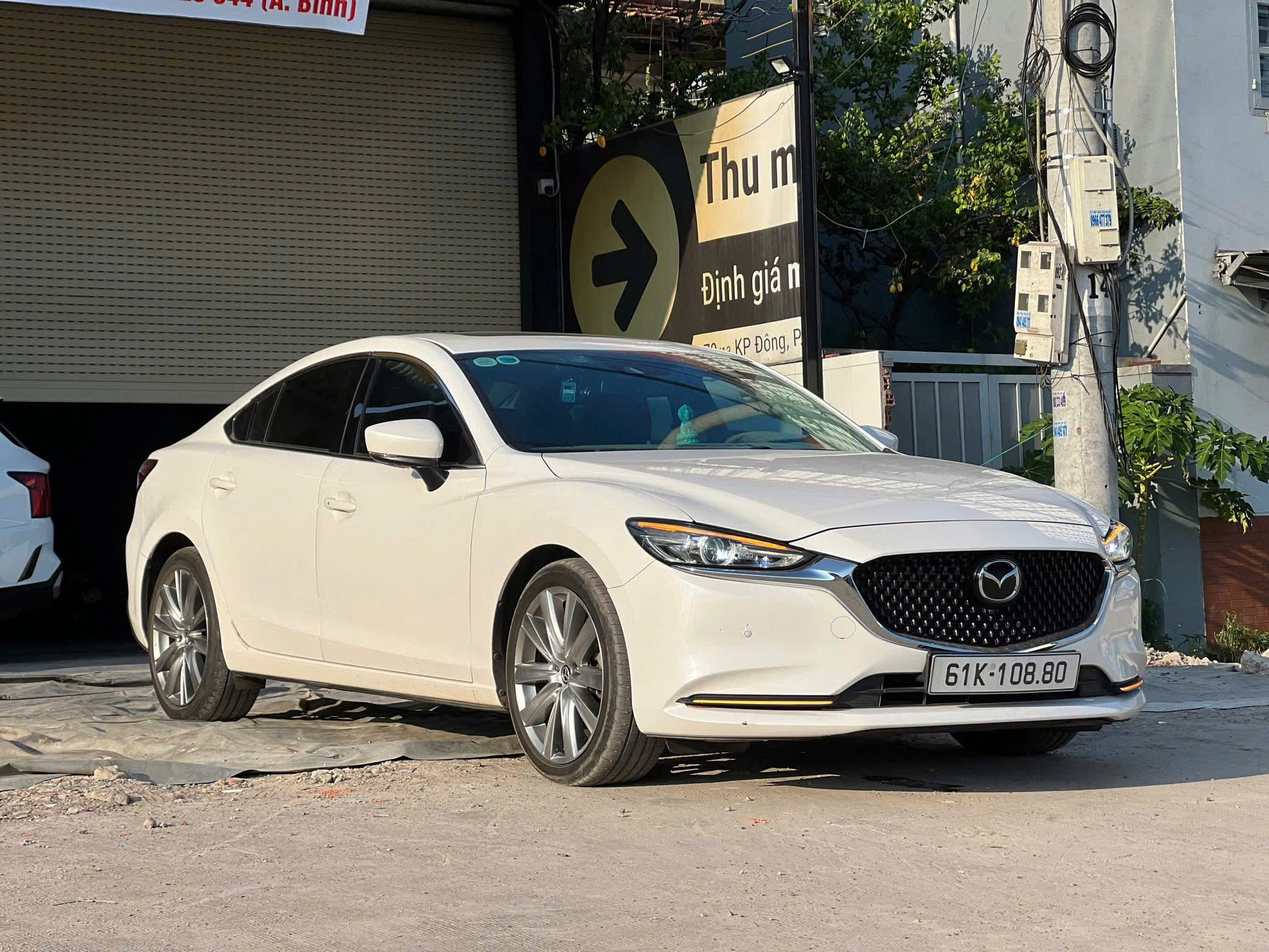Bien-so: (927, 650, 1081, 695)
